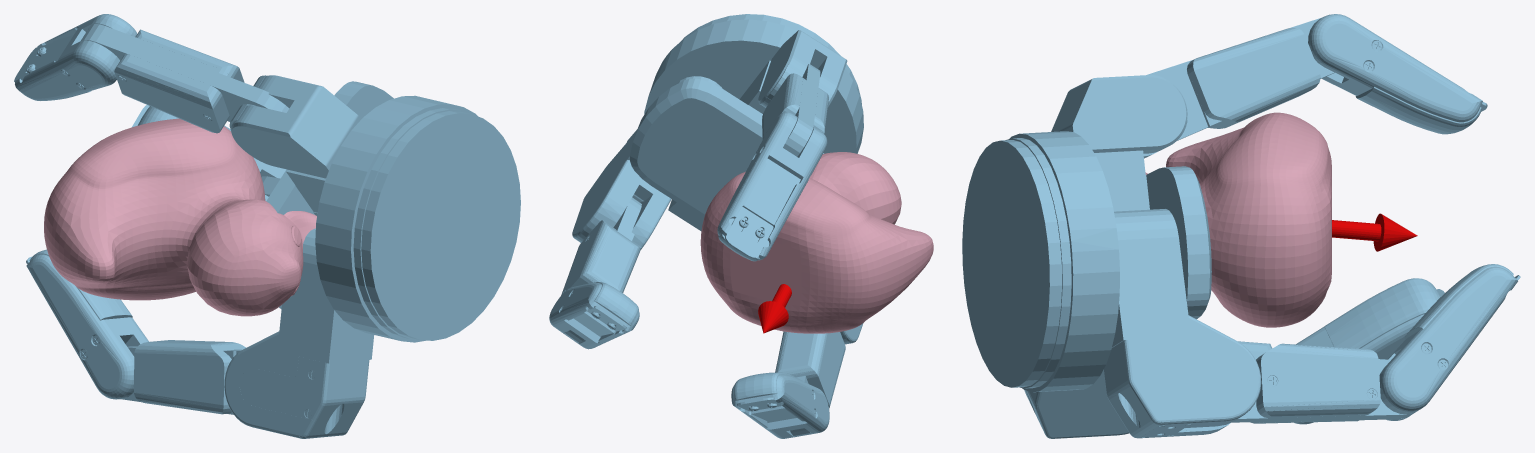
3 views of the same model, side by side, from view 1: azimuth 30°, elevation 25°; view 2: azimuth 150°, elevation 25°; view 3: azimuth 270°, elevation 25° (orthographic). The views are drawn at different scales.
Parts seen in each view (by area): view 1: world, rubber_duck.stl; view 2: world, rubber_duck.stl; view 3: world, rubber_duck.stl.
Boxes of the visible parts, box(x1,y1,x2,y2) form: world: box(14, 14, 520, 438); rubber_duck.stl: box(44, 118, 316, 316); world: box(549, 14, 863, 438); rubber_duck.stl: box(700, 152, 933, 333); world: box(962, 14, 1520, 438); rubber_duck.stl: box(1145, 112, 1331, 327).
Size of the model in its own units: 0.1715 by 0.1514 by 0.1917.
